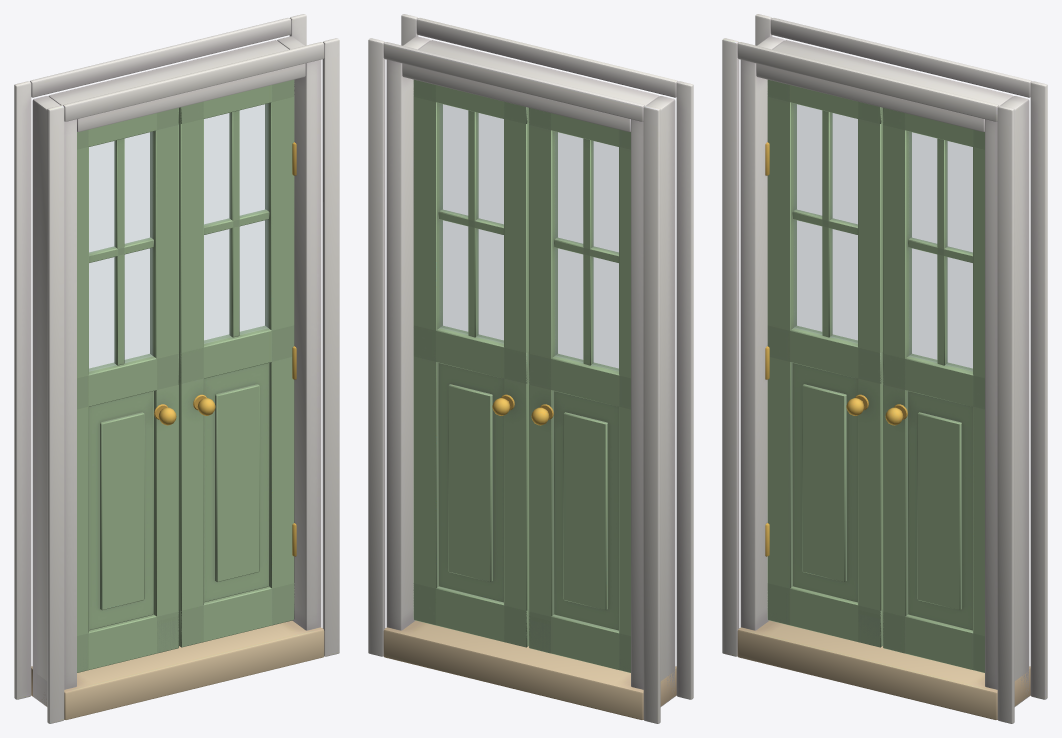
The model's file is double-door.glb.
3 renders of one model, left to right at view 1: azimuth 30°, elevation 25°; view 2: azimuth 150°, elevation 25°; view 3: azimuth 330°, elevation 25°, orthographic.
Parts seen in each view (by area): view 1: double-door_body, double-door_wing_right, double-door_wing_left, double-door_pane_r, double-door_pane_l; view 2: double-door_body, double-door_wing_right, double-door_wing_left, double-door_pane_r, double-door_pane_l; view 3: double-door_body, double-door_wing_left, double-door_wing_right, double-door_pane_l, double-door_pane_r.
Boxes of the visible parts, left/top/right/bottom form: double-door_body: left=14, top=14, right=339, bottom=723; double-door_wing_right: left=179, top=79, right=294, bottom=647; double-door_wing_left: left=77, top=108, right=178, bottom=672; double-door_pane_r: left=204, top=103, right=268, bottom=343; double-door_pane_l: left=89, top=132, right=152, bottom=371; double-door_body: left=368, top=14, right=693, bottom=723; double-door_wing_right: left=413, top=79, right=528, bottom=647; double-door_wing_left: left=529, top=108, right=630, bottom=672; double-door_pane_r: left=439, top=104, right=503, bottom=343; double-door_pane_l: left=555, top=132, right=618, bottom=371; double-door_body: left=722, top=14, right=1047, bottom=723; double-door_wing_left: left=767, top=79, right=882, bottom=647; double-door_wing_right: left=883, top=108, right=984, bottom=672; double-door_pane_l: left=793, top=104, right=857, bottom=343; double-door_pane_r: left=909, top=132, right=972, bottom=371.
Size of the model in its own units: 1.12 by 2.26 by 0.24.
5 materials, 3 textured.
